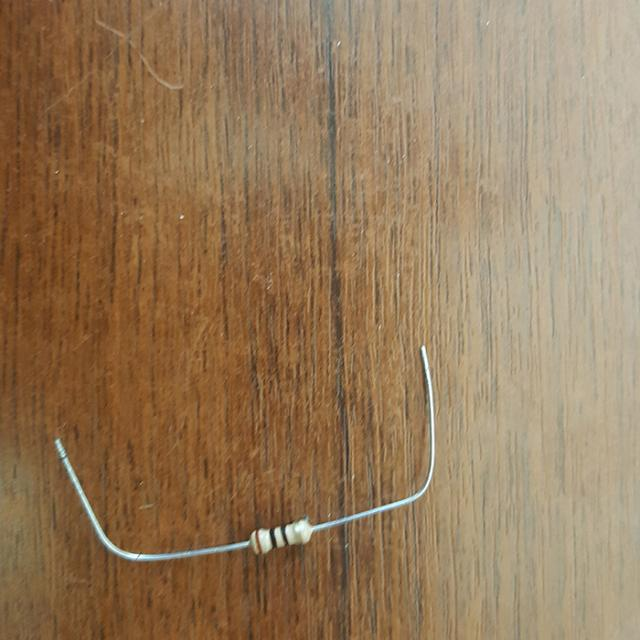black: (268, 528, 277, 549), (280, 525, 289, 545)
brown: (255, 530, 262, 554)
gold: (293, 520, 303, 543)
resistor: (237, 507, 324, 568)
